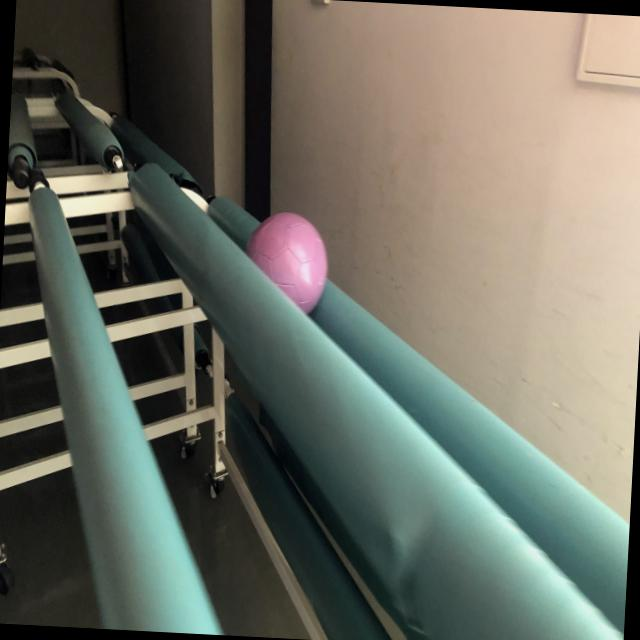purple_ball: (240, 210, 331, 326)
